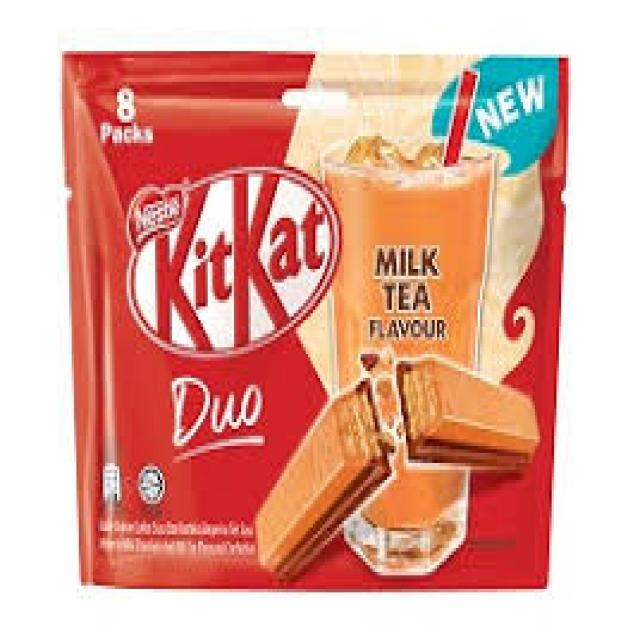kitkat: (64, 54, 552, 592)
